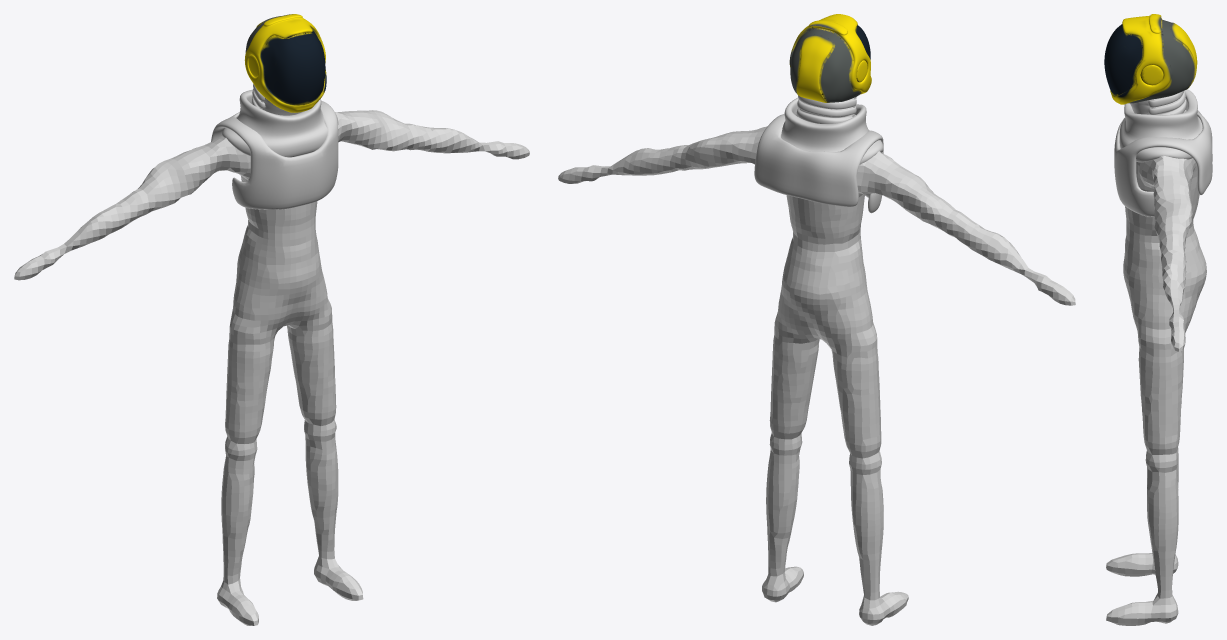
File: halffinished_armour.fbx
3 renders of one model, left to right at view 1: azimuth 30°, elevation 25°; view 2: azimuth 150°, elevation 25°; view 3: azimuth 270°, elevation 25°, orthographic.
Parts seen in each view (by area): view 1: Group30385, Group30973, Cube.004, Cube.002, Group35325, Group21692, Cube.003, Group3156, Group15673, Group24954, Group267, ZSphere 0 (+1 smaller); view 2: Group30385, Group30973, Cube.004, Group35325, Cube.002, Group21692, Group3156, Cube.003, Group15673, Group24954, Group29306, Cube (+4 smaller); view 3: Cube.002, Group30385, Group30973, Cube.004, Group35325, Cube.003, Group21692, Group3156, Group267, Group15673, Group24954, Cube (+4 smaller).
Part boxes in pixels (<box>): Group30385: <box>53,110,498,258</box>; Group30973: <box>225,322,336,443</box>; Cube.004: <box>211,100,338,209</box>; Cube.002: <box>244,14,326,112</box>; Group35325: <box>221,440,338,591</box>; Group21692: <box>231,261,327,332</box>; Cube.003: <box>222,89,338,157</box>; Group3156: <box>238,225,321,283</box>; Group15673: <box>229,298,332,351</box>; Group24954: <box>225,414,336,469</box>; Group267: <box>226,558,363,625</box>; ZSphere 0: <box>247,215,315,246</box>; Group30385: <box>600,126,1034,282</box>; Group30973: <box>769,336,881,458</box>; Cube.004: <box>754,113,883,213</box>; Group35325: <box>766,456,883,600</box>; Cube.002: <box>789,14,871,102</box>; Group21692: <box>776,276,872,345</box>; Group3156: <box>783,236,866,294</box>; Cube.003: <box>781,97,883,164</box>; Group15673: <box>774,318,877,364</box>; Group24954: <box>769,428,881,483</box>; Group29306: <box>762,572,890,625</box>; Cube: <box>796,95,856,123</box>; Cube.002: <box>1104,14,1197,104</box>; Group30385: <box>1125,110,1199,317</box>; Group30973: <box>1138,348,1183,451</box>; Cube.004: <box>1114,110,1212,216</box>; Group35325: <box>1147,448,1178,601</box>; Cube.003: <box>1119,89,1202,162</box>; Group21692: <box>1123,272,1202,331</box>; Group3156: <box>1123,228,1206,286</box>; Group267: <box>1106,553,1159,625</box>; Group15673: <box>1136,322,1188,358</box>; Group24954: <box>1145,446,1177,481</box>; Cube: <box>1130,90,1186,114</box>.
Bounding box in the file's own units: 274 × 297 × 50.08.
